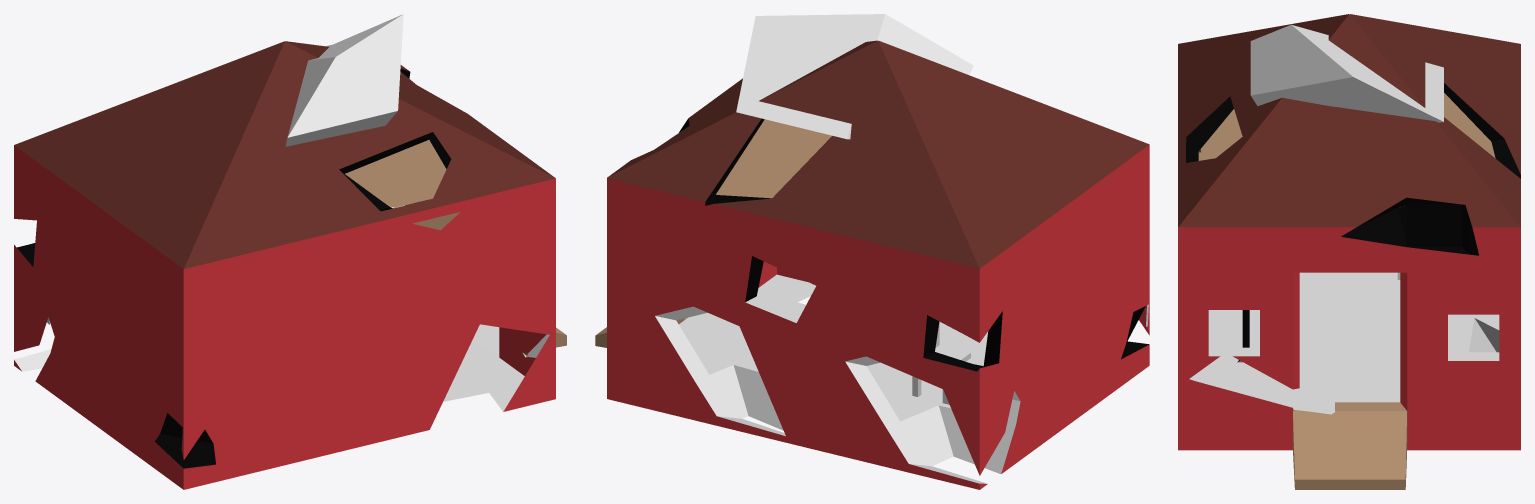
The model's file is house.v2.fbx.
The picture shows the model from 3 angles, left to right: view 1: azimuth 30°, elevation 25°; view 2: azimuth 150°, elevation 25°; view 3: azimuth 270°, elevation 25°; orthographic projection.
Parts seen in each view (by area): view 1: house; view 2: house; view 3: house.
Part boxes in pixels (x1,y1,x2,y2): house: [14, 14, 566, 489]; house: [595, 14, 1149, 489]; house: [1178, 14, 1520, 489].
Bounding box in the file's own units: 2369 × 1780 × 1579.
